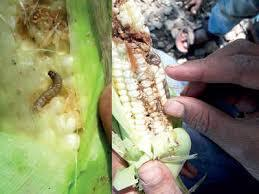fallarmy_worm: (29, 64, 63, 116), (143, 46, 162, 69)
